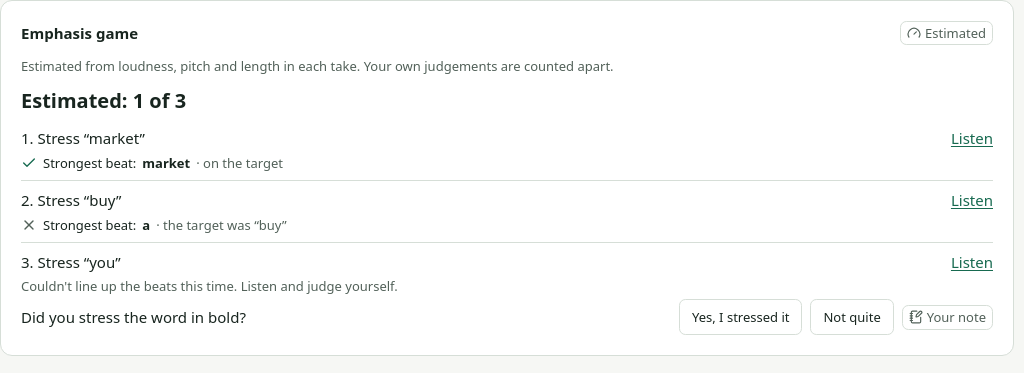
Test case: drill results (10.2–10.11) › keeps estimated emphasis hits and your own judgements apart
The image size is (1024, 373).
Expected: the text "Estimated: 1 of 3" is shown, [21,87,186,114]
Expected: the text "Your judgement" is not shown
Click the radio button labelled "Yes, I stressed it" at (741, 317), box [679,299,802,335]
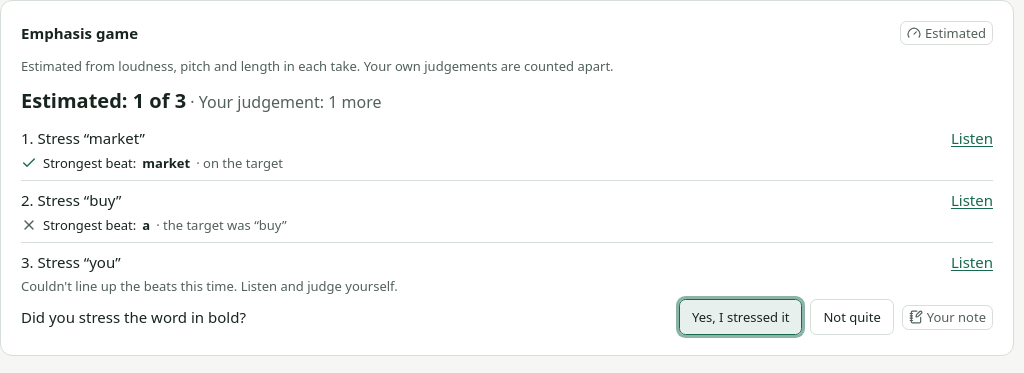
Expected: the text "Estimated: 1 of 3 · Your judgement: 1 more" is shown, [21,87,382,114]
Result: the text "· Your judgement: 1 more" is shown at [186,91,381,113]
